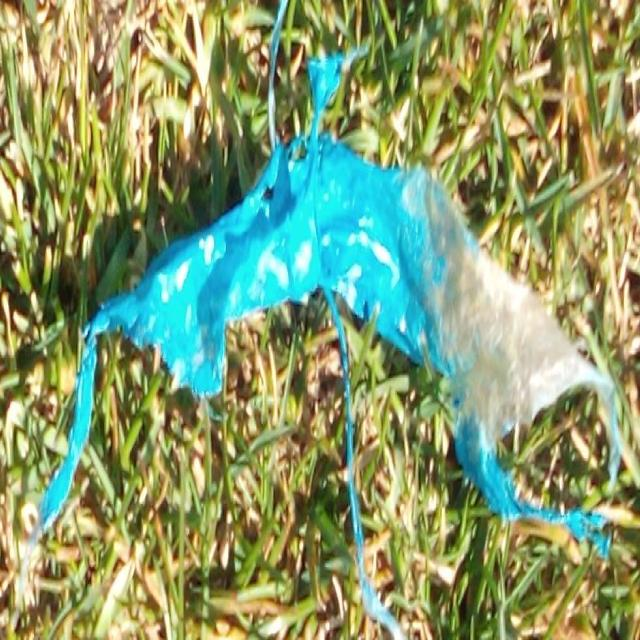litter: (20, 40, 626, 620)
